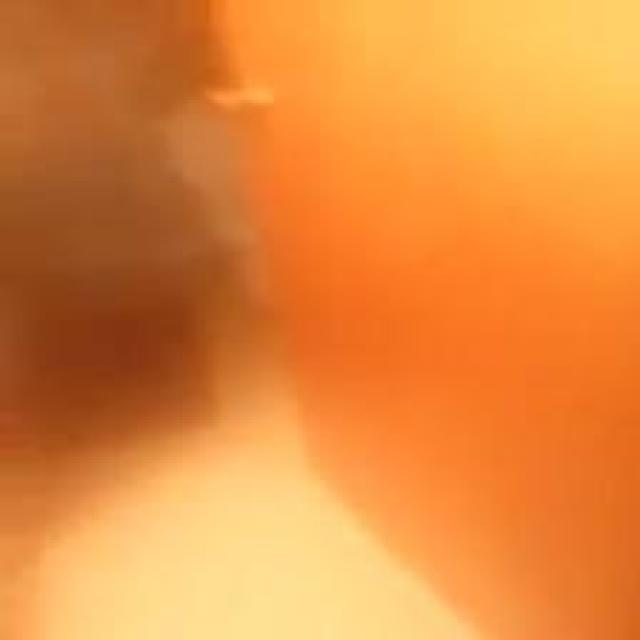other: (201, 22, 605, 576)
